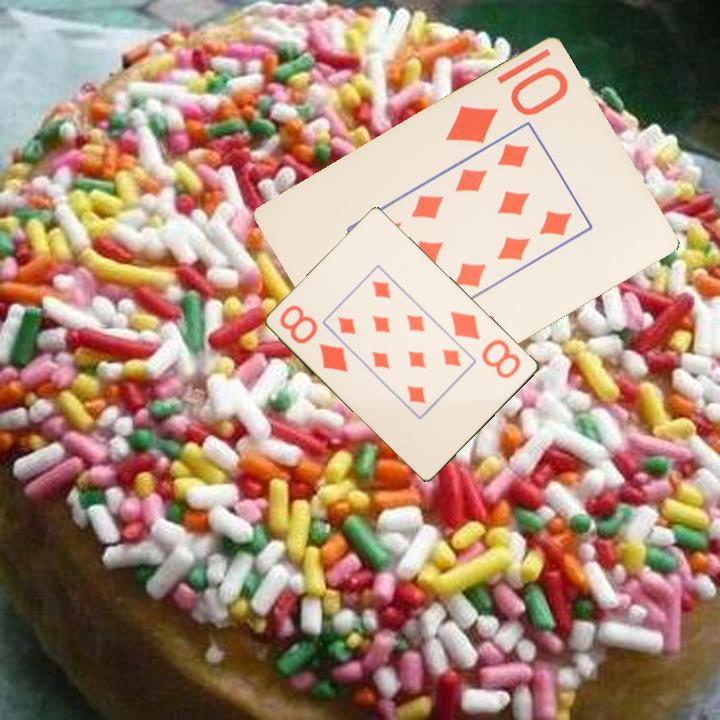10d: (441, 63, 572, 147)
8d: (447, 307, 524, 381), (276, 301, 351, 375)
